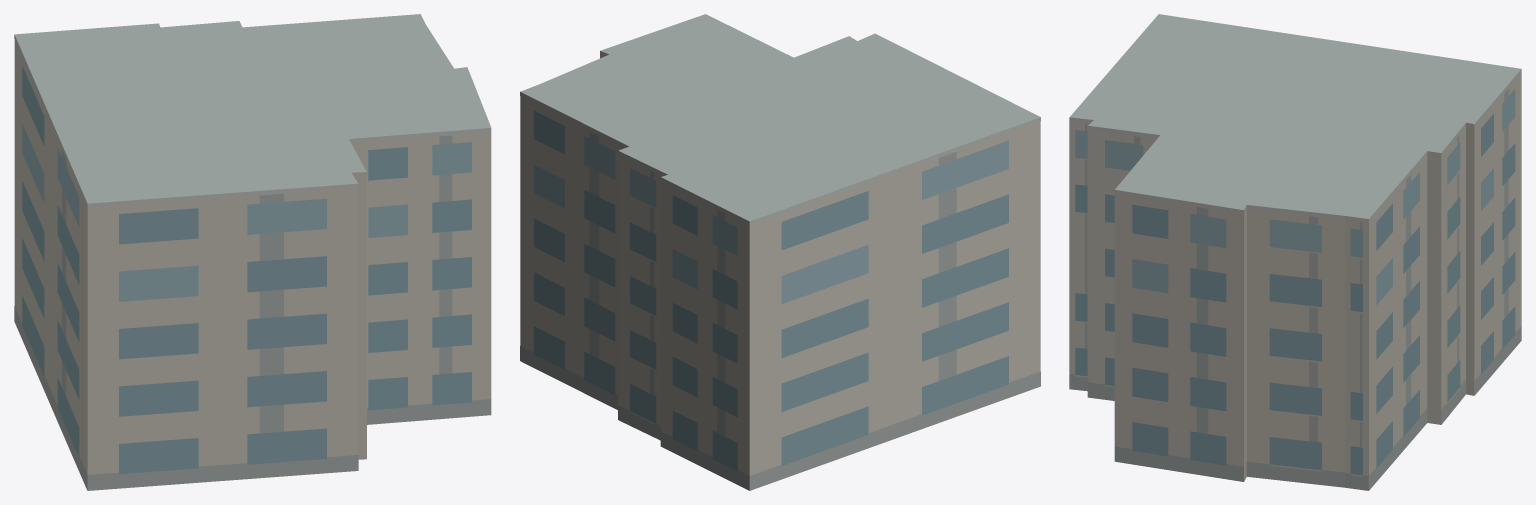
File: survey-upis-32653910.glb
The picture shows the model from 3 angles, left to right: view 1: azimuth 30°, elevation 25°; view 2: azimuth 150°, elevation 25°; view 3: azimuth 270°, elevation 25°; orthographic projection. The views are drawn at different scales.
Visible parts, largest first — view 1: survey-upis-32653910.tmp; view 2: survey-upis-32653910.tmp; view 3: survey-upis-32653910.tmp.
Boxes of the visible parts, <box> form: survey-upis-32653910.tmp: <box>14,14,491,490</box>; survey-upis-32653910.tmp: <box>520,14,1040,490</box>; survey-upis-32653910.tmp: <box>1069,14,1521,490</box>.
Bounding box in the file's own units: 24.68 × 15.25 × 23.
